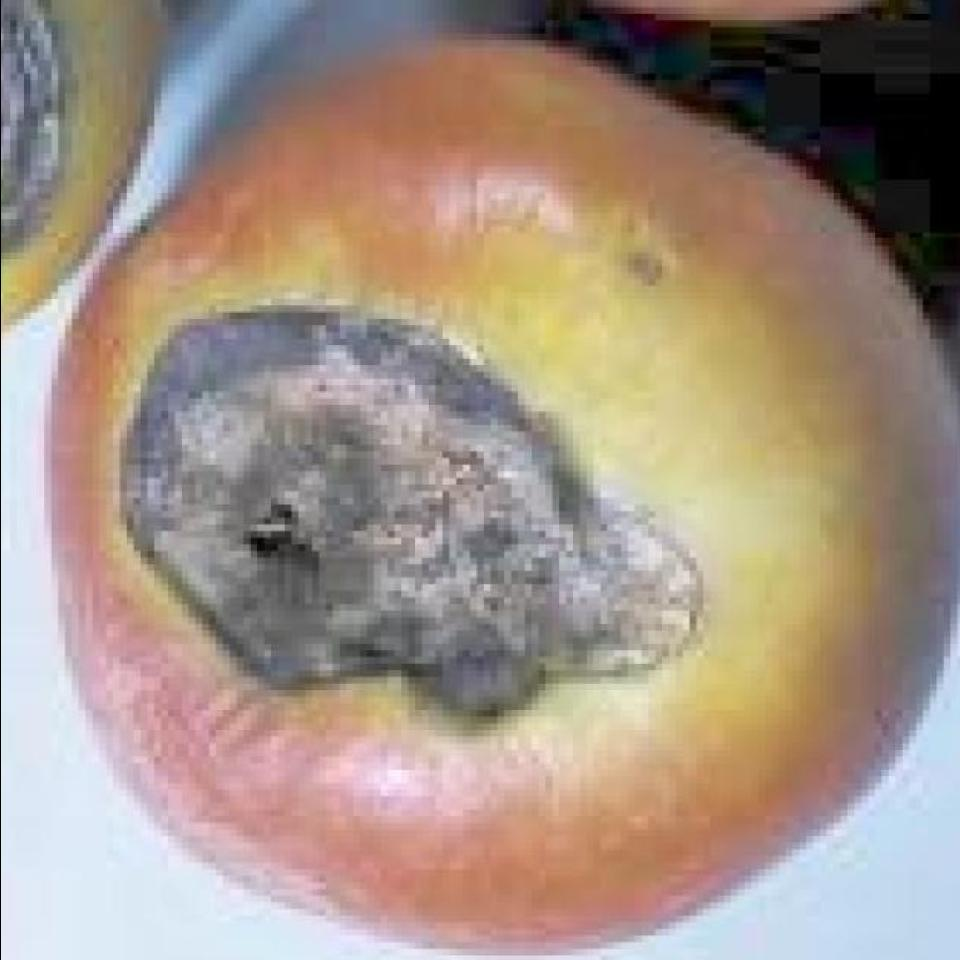Blossom_end_rot: (103, 276, 695, 685), (1, 0, 76, 274)
